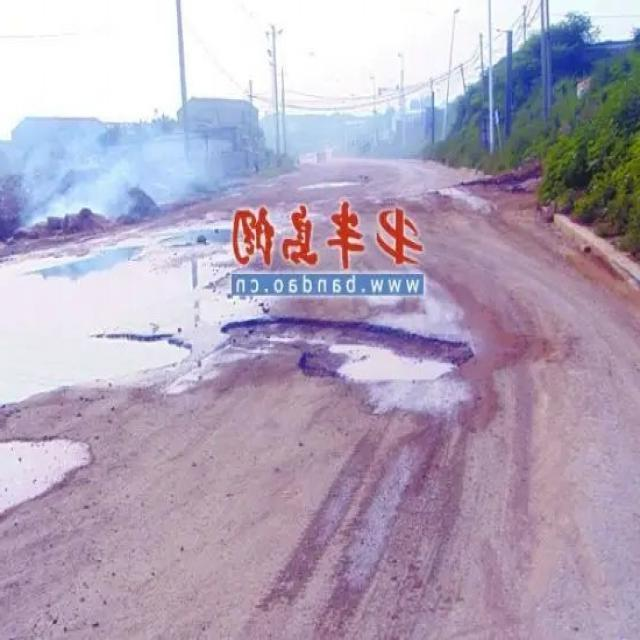pothole: (219, 316, 475, 382), (84, 331, 194, 384), (299, 180, 366, 193)
